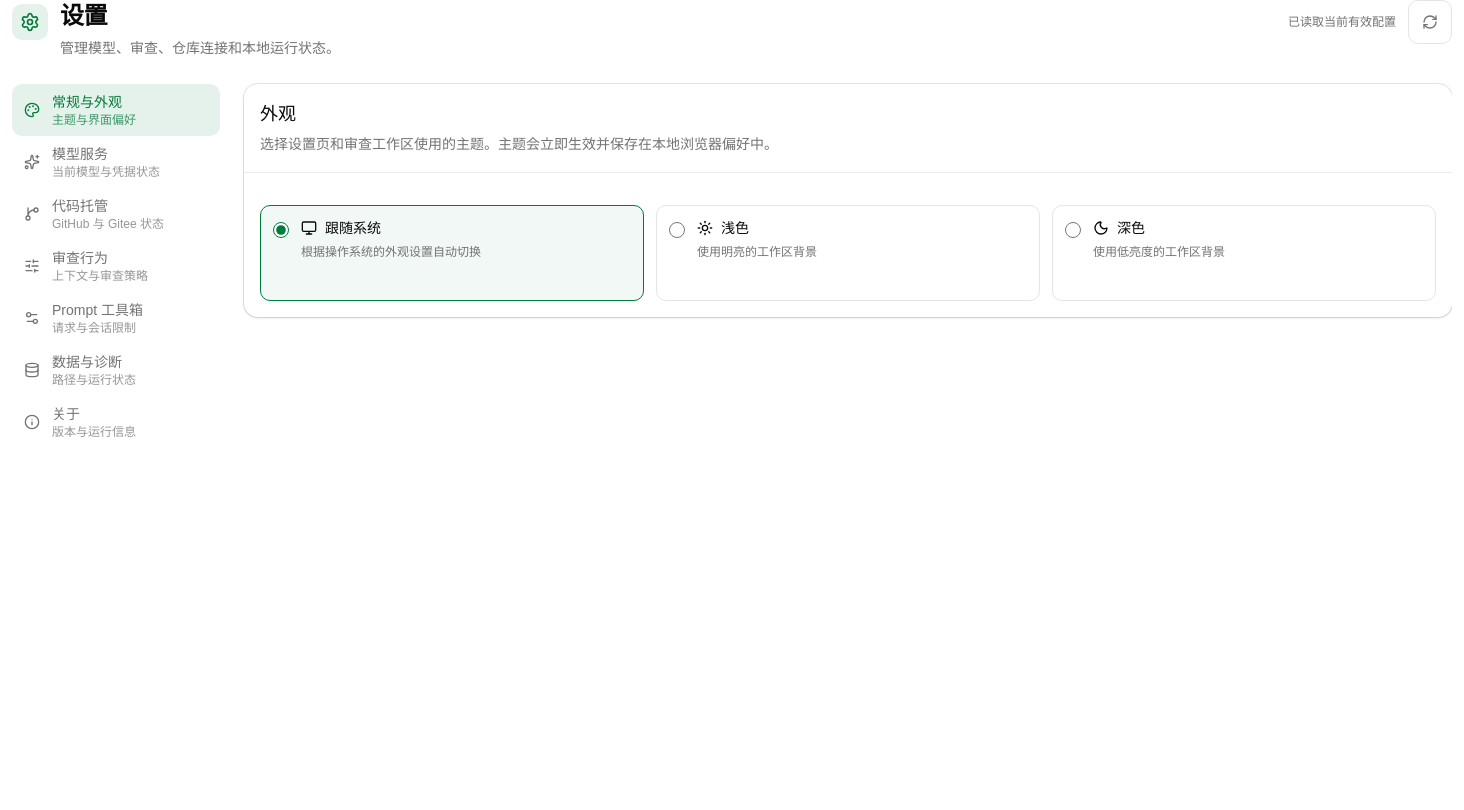
Scenario: Settings › 支持分区切换并显示当前配置来源和敏感状态
This screenshot has width=1464, height=810.
expect the heading "设置" is shown: met, box left=60, top=2, right=107, bottom=29
expect the text "跟随系统" is shown: met, box left=301, top=220, right=381, bottom=236
Click the button "模型服务 当前模型与凭据状态": (116, 162) left=12, top=136, right=220, bottom=188
(page scrolled)
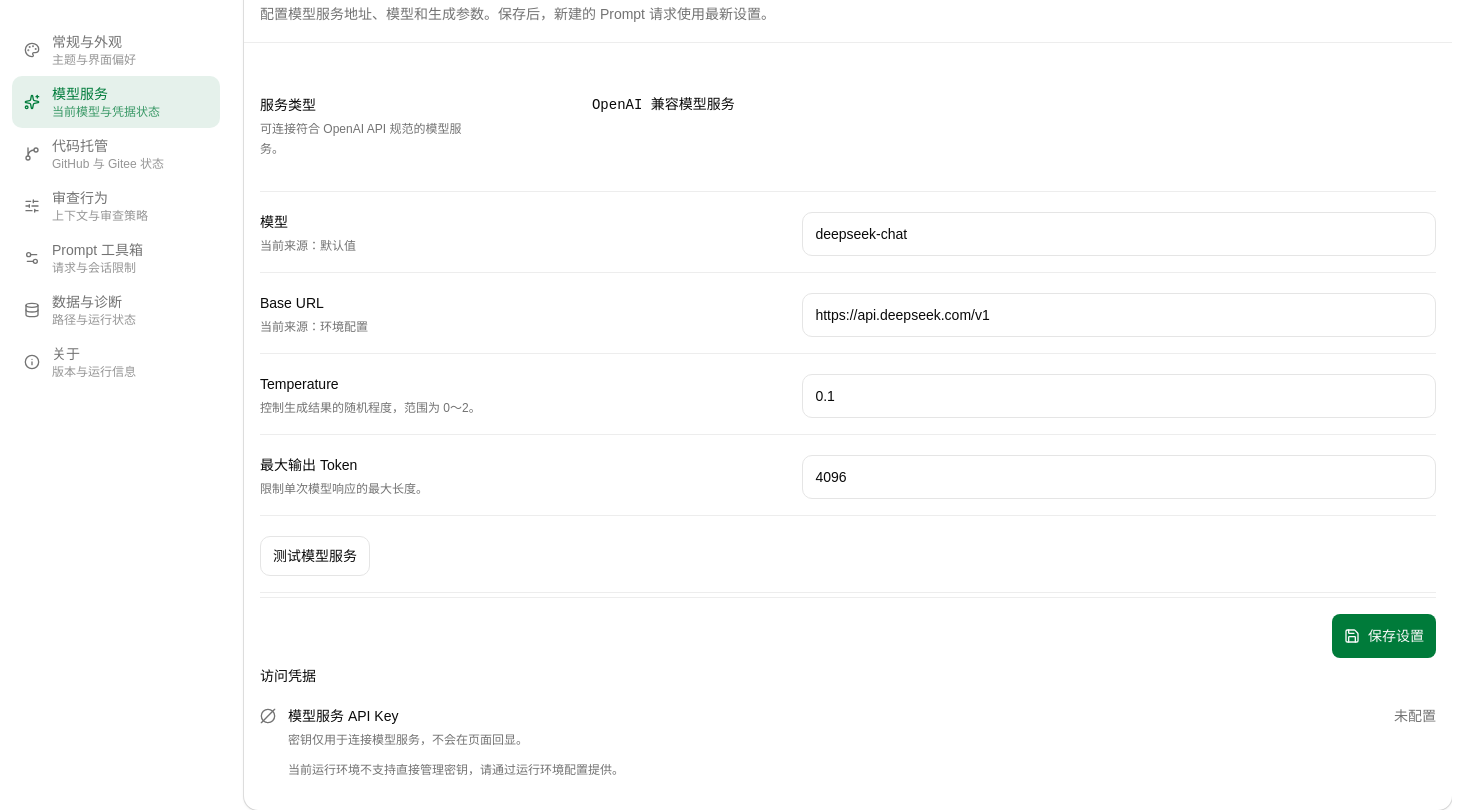
expect the field showing "deepseek-chat" is shown: met, box left=802, top=212, right=1436, bottom=256
expect the text "当前来源：环境配置" is shown: met, box left=260, top=320, right=368, bottom=334
expect the text "模型服务 API Key" is shown: met, box left=288, top=708, right=398, bottom=724
